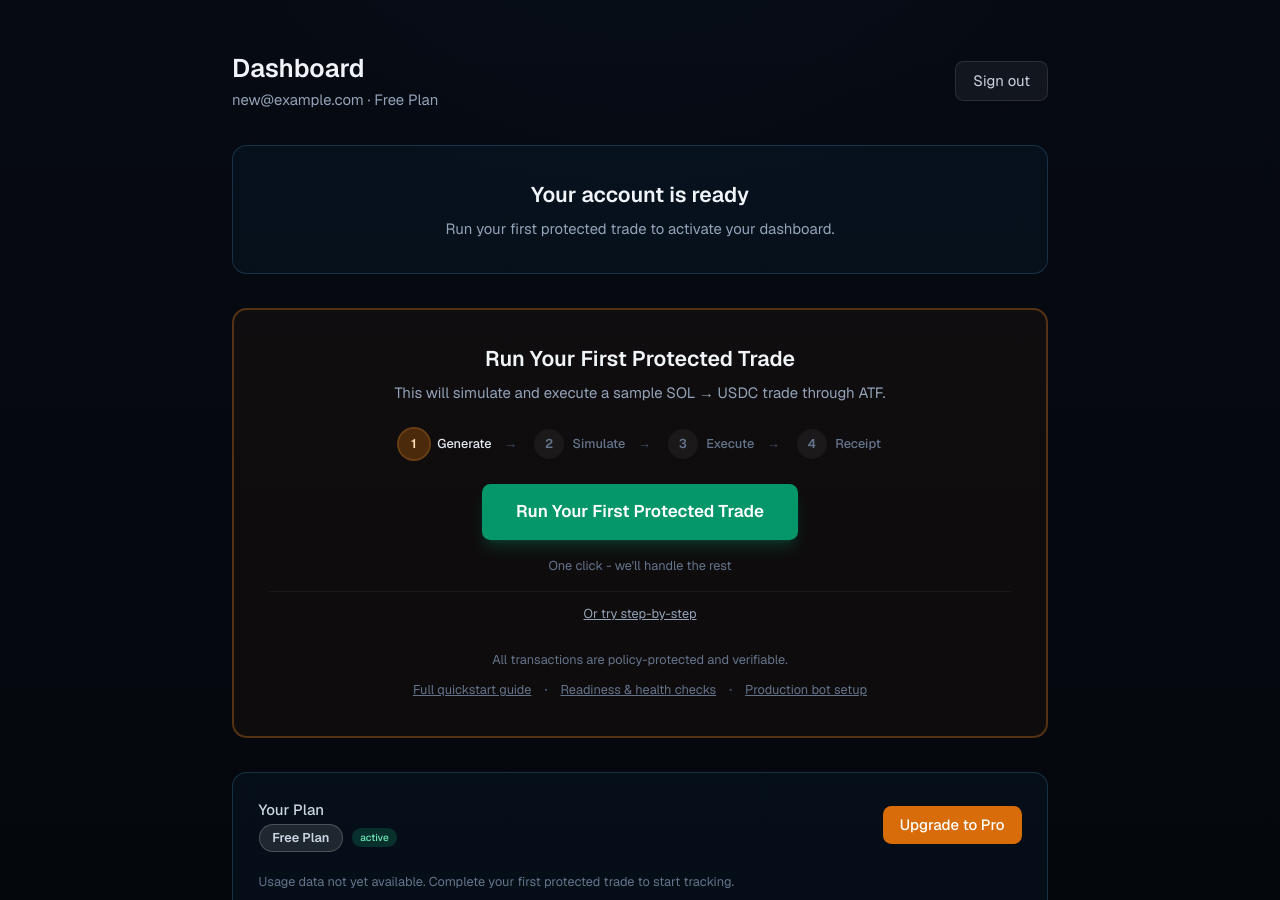
First-use UX — error mapping › shows classified network error on generate failure
The width and height of the screenshot is (1280, 900).
Click the button with test id "generate-btn". click: (640, 614)
box: [584,605,696,622]
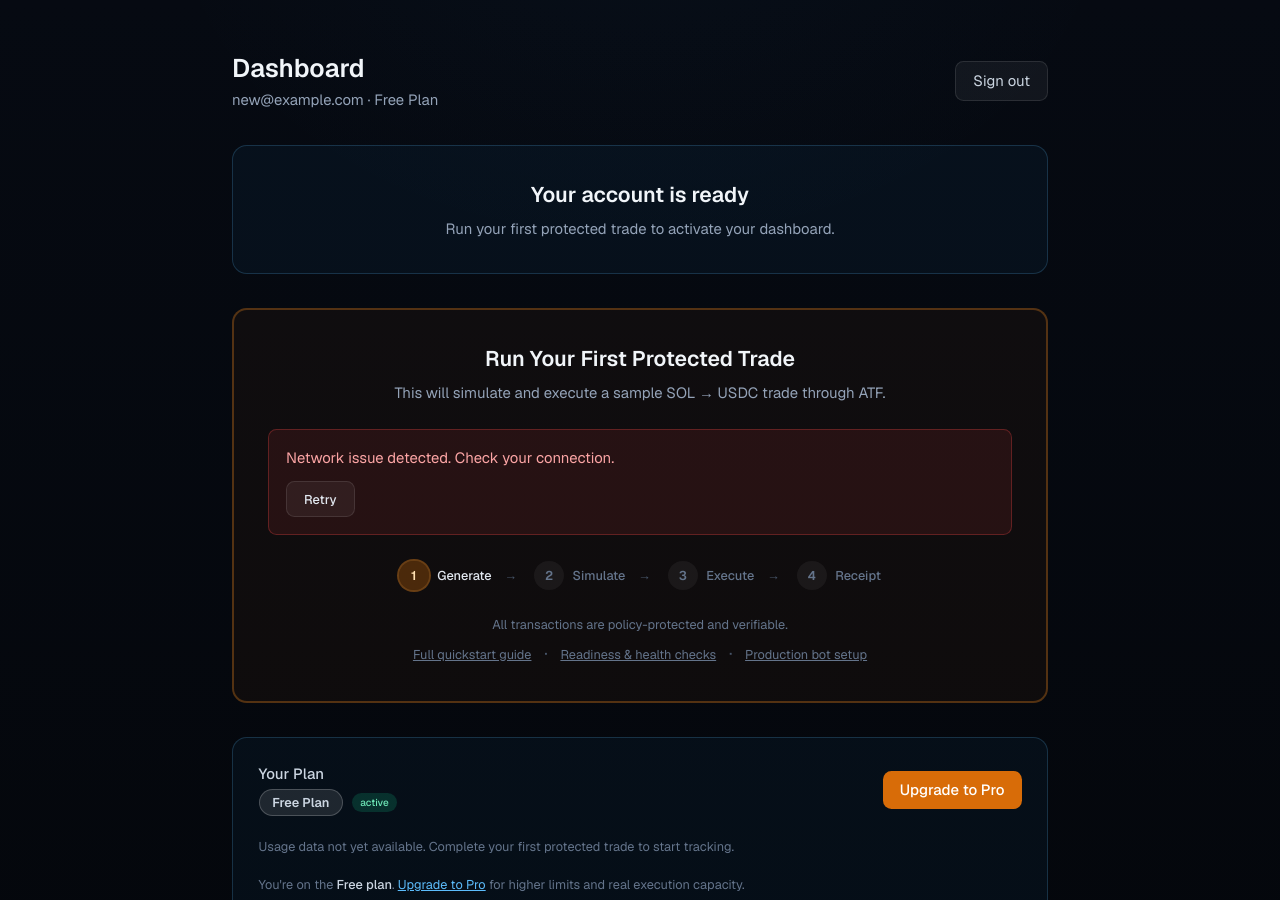
Expected: the element with test id "ob-error" is shown, [268,429,1012,535]
Expected: the text "Network issue detected. Check your connection." is shown, [286,448,614,467]
